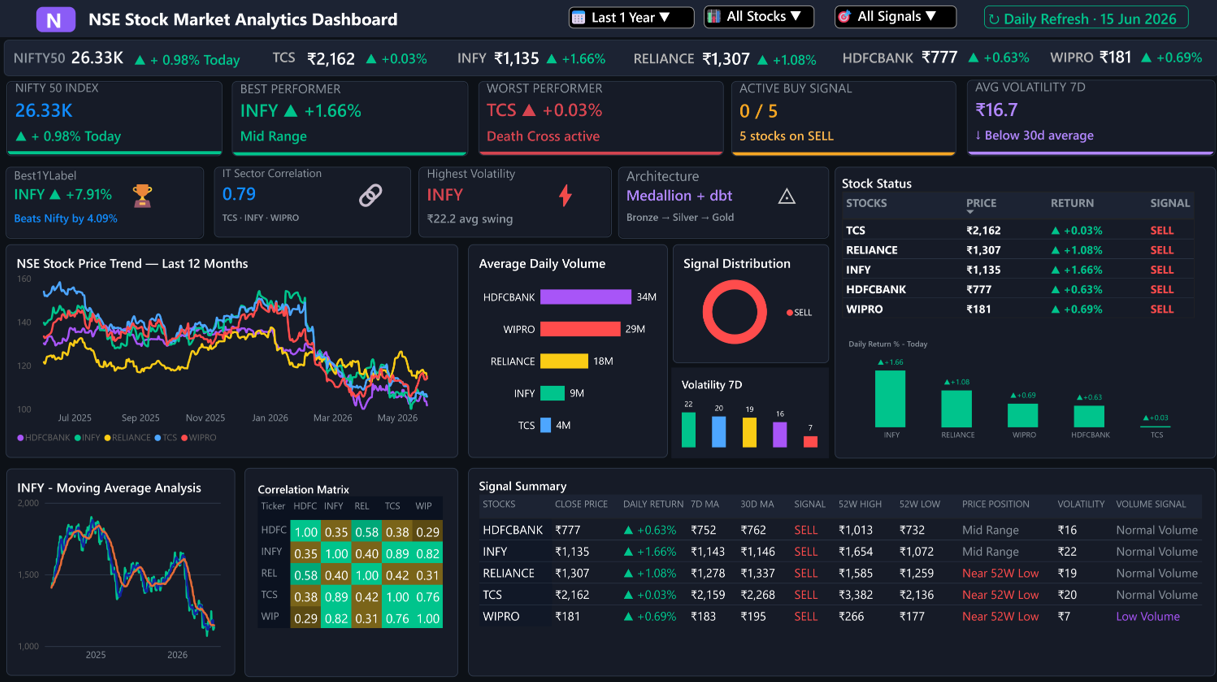

What the dashboard file says about the page in this screenshot:
{"tool":"powerbi","page":{"name":"Page 1","canvas":[1920,1080],"ordinal":0},"visuals":[{"type":"shape","box":[6.5,64,1913.5,57],"z":0},{"type":"cardVisual","fields":{"Data":["fact_stocks.TickerName"]},"box":[1315,55.1,149.7,70.1],"z":1000},{"type":"cardVisual","fields":{"Data":["fact_stocks.TickerPrice"]},"box":[1439.5,53.1,100,70.1],"z":2000},{"type":"cardVisual","fields":{"Data":["fact_stocks.TickerReturn"]},"box":[1511.6,57.1,125.9,63.9],"z":3000},{"type":"cardVisual","fields":{"Data":["fact_stocks.TickerName"]},"box":[1642.2,57.2,122.2,63.3],"z":4000},{"type":"cardVisual","fields":{"Data":["fact_stocks.TickerName"]},"box":[418.4,52.4,65.3,74.1],"z":5000},{"type":"cardVisual","fields":{"Data":["Min(fact_nifty.ticker)"]},"box":[10.2,53.1,139.5,73.5],"z":6000},{"type":"cardVisual","fields":{"Data":["fact_stocks.TickerName"]},"box":[708.8,54.4,88.4,71.4],"z":7000},{"type":"cardVisual","fields":{"Data":["fact_stocks.TickerName"]},"box":[986.4,54.4,129.9,74.1],"z":8000},{"type":"cardVisual","fields":{"Data":["fact_stocks.TickerPrice"]},"box":[472.1,58.5,113.6,63.3],"z":9000},{"type":"cardVisual","fields":{"Data":["fact_stocks.TickerPrice"]},"box":[1718.9,57.2,113.3,62.8],"z":10000},{"type":"cardVisual","fields":{"Data":["fact_stocks.NiftyLatest"]},"box":[100.7,57.1,107.5,63.9],"z":11000},{"type":"cardVisual","fields":{"Data":["fact_stocks.TickerPrice"]},"box":[766,57.8,118.4,64.6],"z":12000},{"type":"cardVisual","fields":{"Data":["fact_stocks.TickerPrice"]},"box":[1093.9,58.5,114.3,63.9],"z":13000},{"type":"cardVisual","fields":{"Data":["fact_stocks.TickerReturn"]},"box":[564,64,144,54],"z":14000},{"type":"cardVisual","fields":{"Data":["fact_stocks.TickerReturn"]},"box":[1784,58,130,62],"z":15000},{"type":"cardVisual","fields":{"Data":["fact_stocks.NiftyTrendLabel"]},"box":[200,64.6,194.6,55.8],"z":16000},{"type":"cardVisual","fields":{"Data":["fact_stocks.TickerReturn"]},"box":[1180.3,66.7,126.5,51.7],"z":17000},{"type":"cardVisual","fields":{"Data":["fact_stocks.TickerReturn"]},"box":[848.3,65.3,125.9,51.7],"z":18000},{"type":"cardVisual","title":"   NIFTY 50 INDEX","fields":{"Data":["fact_stocks.NiftyLatest"]},"box":[10.5,128.9,340.1,117.8],"z":19000},{"type":"cardVisual","title":"   NIFTY 50 INDEX","fields":{"Data":["fact_stocks.WorstPerformerLabel"]},"box":[753.5,128.9,386.6,117.6],"z":20000},{"type":"cardVisual","title":"   NIFTY 50 INDEX","fields":{"Data":["fact_stocks.BestPerformerLabel"]},"box":[366.2,128.6,371.4,118.2],"z":21000},{"type":"cardVisual","title":"   NIFTY 50 INDEX","fields":{"Data":["fact_stocks.BuySignalLabel"]},"box":[1151.9,128.6,354.5,118.2],"z":22000},{"type":"cardVisual","title":"   NIFTY 50 INDEX","fields":{"Data":["fact_stocks.AvgVolatility7D"]},"box":[1523.4,127.3,390.9,119.5],"z":23000},{"type":"shape","box":[0,0,1919.3,60.2],"z":24000},{"type":"textbox","box":[140,12,544,40],"z":25000},{"type":"shape","box":[57.9,12.3,62,39.8],"z":26000},{"type":"textbox","box":[73.3,9.7,39.8,46.6],"z":27000},{"type":"slicer","title":"📊 All Stocks     ▼","fields":{"Values":["fact_stocks.ticker"]},"box":[1109.3,9.9,173.9,36],"z":28000},{"type":"slicer","title":"🎯 All Signals  ▼","fields":{"Values":["fact_stocks.signal"]},"box":[1314.9,9.9,191.9,36],"z":29000},{"type":"slicer","title":"📅 Last 1 Year   ▼","fields":{"Values":["fact_stocks.date"]},"box":[896,12,198,34],"z":30000},{"type":"cardVisual","fields":{"Data":["fact_stocks.RefreshDateLabel"]},"box":[1550,10,322,36],"z":31000},{"type":"cardVisual","title":"   NIFTY 50 INDEX","fields":{"Data":["fact_stocks.Best1YLabel"]},"box":[10.4,263.6,311.7,113],"z":32000},{"type":"textbox","box":[200,282.7,78.8,69.2],"z":33000},{"type":"cardVisual","title":"   NIFTY 50 INDEX","fields":{"Data":["dim_company.ITSectorCorrelationLabel"]},"box":[337.7,263.6,310.4,111.7],"z":34000},{"type":"cardVisual","title":"   NIFTY 50 INDEX","fields":{"Data":["fact_stocks.HighestVolatilityLabel"]},"box":[659.7,263.6,303.9,111.7],"z":35000},{"type":"cardVisual","title":"   NIFTY 50 INDEX","fields":{"Data":["dim_company.Architecture"]},"box":[974,263.6,332.5,113],"z":36000},{"type":"textbox","box":[558,282,56,88],"z":37000},{"type":"textbox","box":[866,282,70,88],"z":38000},{"type":"textbox","box":[1224,282,44,88],"z":39000},{"type":"lineChart","title":"NSE Stock Price Trend — Last 12 Months","fields":{"Category":["fact_stocks.date"],"Series":["fact_stocks.ticker"],"Y":["fact_stocks.NormalizedPrice"]},"box":[10,386,712,336],"z":40000},{"type":"tableEx","title":"Stock Status","fields":{"Values":["fact_stocks.ticker","fact_stocks.close_price","fact_stocks.ReturnDisplay","fact_stocks.signal"]},"box":[1314.8,264.1,600,458.5],"z":41000},{"type":"clusteredColumnChart","title":"Daily Return % - Today","fields":{"Category":["fact_stocks.ticker"],"Y":["Avg(fact_stocks.daily_return_pct)"]},"box":[1321.1,519.7,585.2,195.8],"z":42000},{"type":"lineChart","title":"INFY - Moving Average Analysis","fields":{"Category":["fact_stocks.date"],"Y":["Avg(fact_stocks.close_price)","Avg(fact_stocks.moving_avg_7d)","Avg(fact_stocks.moving_avg_30d)"]},"box":[10.5,738.6,360.8,326.9],"z":43000},{"type":"clusteredBarChart","title":"Average Daily Volume","fields":{"Category":["fact_stocks.ticker"],"Y":["Avg(fact_stocks.avg_volume_7d)"]},"box":[737.7,385.7,314.3,336.4],"z":44000},{"type":"clusteredColumnChart","title":"Volatility 7D","fields":{"Category":["fact_stocks.ticker"],"Y":["Avg(fact_stocks.volatility_7d)"]},"box":[1057.8,579.7,248.4,143],"z":45000},{"type":"tableEx","title":"Signal Summary ","fields":{"Values":["fact_stocks.ticker","fact_stocks.close_price","fact_stocks.ReturnDisplay","fact_stocks.moving_avg_7d","fact_stocks.moving_avg_30d","fact_stocks.signal","Sum(fact_stocks.week52_high)","Sum(fact_stocks.week52_low)","fact_stocks.price_position","fact_stocks.volatility_7d","fact_stocks.volume_signal"]},"box":[738,738,1176,328],"z":46000},{"type":"pivotTable","title":"Correlation Matrix","fields":{"Columns":["MatrixCol.Ticker"],"Rows":["MatrixRow.Ticker"],"Values":["fact_stocks.CorrelationValue"]},"box":[385.9,738.5,335.9,328.2],"z":47000},{"type":"donutChart","title":"Signal Distribution","fields":{"Category":["fact_stocks.signal"],"Y":["fact_stocks.TotalStocks"]},"box":[1060.2,385.9,246.1,187.5],"z":48000}]}

Visuals, with their boxes in screenshot pixels (x1, y1, x2, y2), scaled from the page's 1920x1080 canvas onto the 1217x682 screenshot:
shape: <region>4, 40, 1216, 76</region>
cardVisual - fact_stocks.TickerName: <region>834, 35, 928, 79</region>
cardVisual - fact_stocks.TickerPrice: <region>912, 34, 976, 78</region>
cardVisual - fact_stocks.TickerReturn: <region>958, 36, 1038, 76</region>
cardVisual - fact_stocks.TickerName: <region>1041, 36, 1118, 76</region>
cardVisual - fact_stocks.TickerName: <region>265, 33, 307, 80</region>
cardVisual - Min(fact_nifty.ticker): <region>6, 34, 95, 80</region>
cardVisual - fact_stocks.TickerName: <region>449, 34, 505, 79</region>
cardVisual - fact_stocks.TickerName: <region>625, 34, 708, 81</region>
cardVisual - fact_stocks.TickerPrice: <region>299, 37, 371, 77</region>
cardVisual - fact_stocks.TickerPrice: <region>1090, 36, 1161, 76</region>
cardVisual - fact_stocks.NiftyLatest: <region>64, 36, 132, 76</region>
cardVisual - fact_stocks.TickerPrice: <region>486, 36, 561, 77</region>
cardVisual - fact_stocks.TickerPrice: <region>693, 37, 766, 77</region>
cardVisual - fact_stocks.TickerReturn: <region>357, 40, 449, 75</region>
cardVisual - fact_stocks.TickerReturn: <region>1131, 37, 1213, 76</region>
cardVisual - fact_stocks.NiftyTrendLabel: <region>127, 41, 250, 76</region>
cardVisual - fact_stocks.TickerReturn: <region>748, 42, 828, 75</region>
cardVisual - fact_stocks.TickerReturn: <region>538, 41, 618, 74</region>
"   NIFTY 50 INDEX" cardVisual: <region>7, 81, 222, 156</region>
"   NIFTY 50 INDEX" cardVisual: <region>478, 81, 723, 156</region>
"   NIFTY 50 INDEX" cardVisual: <region>232, 81, 468, 156</region>
"   NIFTY 50 INDEX" cardVisual: <region>730, 81, 955, 156</region>
"   NIFTY 50 INDEX" cardVisual: <region>966, 80, 1213, 156</region>
shape: <region>0, 0, 1216, 38</region>
textbox: <region>89, 8, 434, 33</region>
shape: <region>37, 8, 76, 33</region>
textbox: <region>46, 6, 72, 36</region>
"📊 All Stocks     ▼" slicer: <region>703, 6, 813, 29</region>
"🎯 All Signals  ▼" slicer: <region>833, 6, 955, 29</region>
"📅 Last 1 Year   ▼" slicer: <region>568, 8, 693, 29</region>
cardVisual - fact_stocks.RefreshDateLabel: <region>982, 6, 1187, 29</region>
"   NIFTY 50 INDEX" cardVisual: <region>7, 166, 204, 238</region>
textbox: <region>127, 179, 177, 222</region>
"   NIFTY 50 INDEX" cardVisual: <region>214, 166, 411, 237</region>
"   NIFTY 50 INDEX" cardVisual: <region>418, 166, 611, 237</region>
"   NIFTY 50 INDEX" cardVisual: <region>617, 166, 828, 238</region>
textbox: <region>354, 178, 389, 234</region>
textbox: <region>549, 178, 593, 234</region>
textbox: <region>776, 178, 804, 234</region>
"NSE Stock Price Trend — Last 12 Months" lineChart: <region>6, 244, 458, 456</region>
"Stock Status" tableEx: <region>833, 167, 1214, 456</region>
"Daily Return % - Today" clusteredColumnChart: <region>837, 328, 1208, 452</region>
"INFY - Moving Average Analysis" lineChart: <region>7, 466, 235, 673</region>
"Average Daily Volume" clusteredBarChart: <region>468, 244, 667, 456</region>
"Volatility 7D" clusteredColumnChart: <region>670, 366, 828, 456</region>
"Signal Summary " tableEx: <region>468, 466, 1213, 673</region>
"Correlation Matrix" pivotTable: <region>245, 466, 458, 674</region>
"Signal Distribution" donutChart: <region>672, 244, 828, 362</region>
